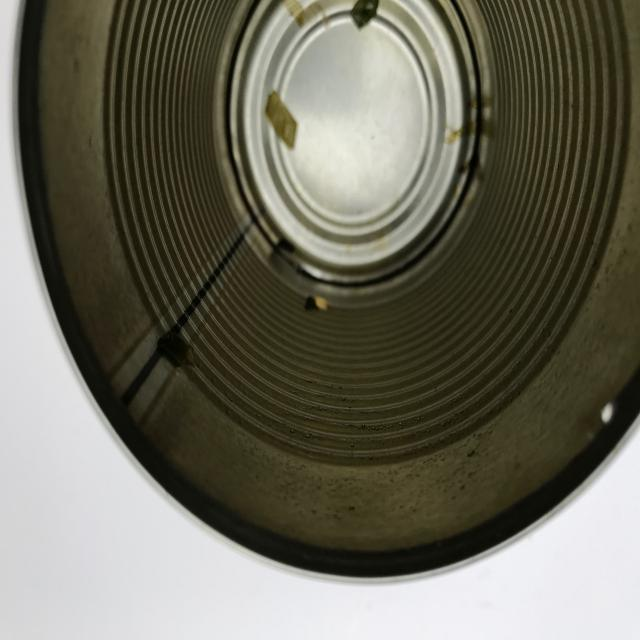Metal: (12, 0, 640, 583)
